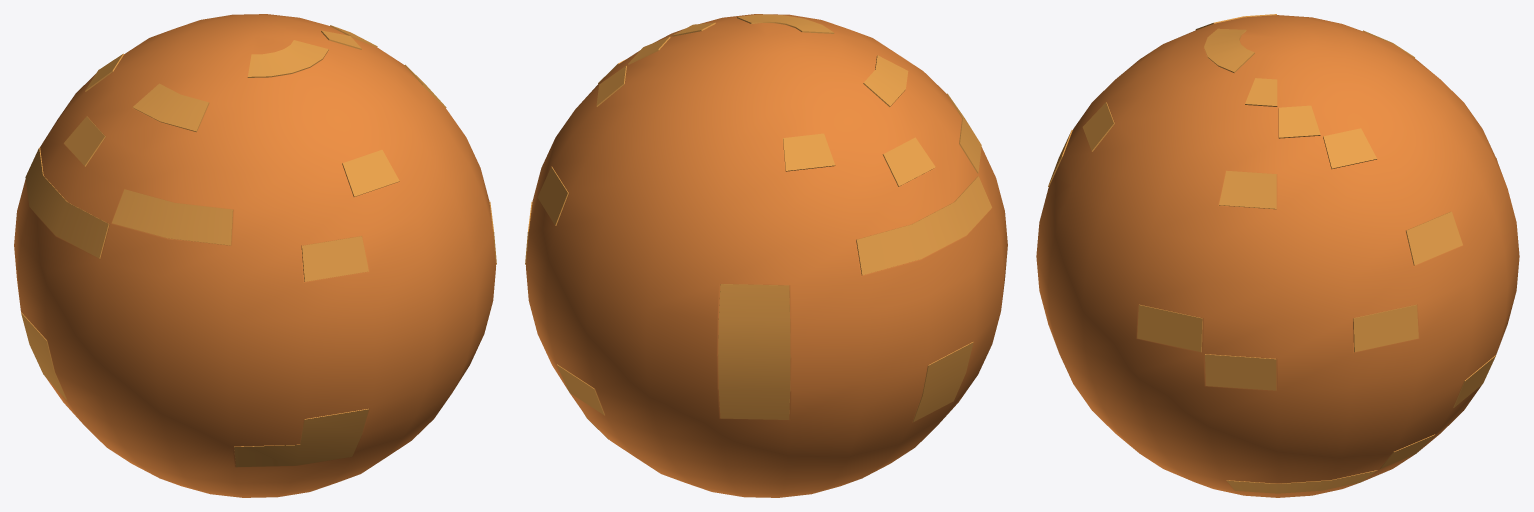
The model's file is Outer_Core_Icon_v01.fbx.
3 renders of one model, left to right at view 1: azimuth 30°, elevation 25°; view 2: azimuth 150°, elevation 25°; view 3: azimuth 270°, elevation 25°, orthographic.
Parts seen in each view (by area): view 1: Outer_Core_1; view 2: Outer_Core_1; view 3: Outer_Core_1.
Boxes of the visible parts, x1,y1,x2,y2 form: Outer_Core_1: (14, 14, 496, 497); Outer_Core_1: (525, 14, 1007, 497); Outer_Core_1: (1036, 14, 1519, 497).
Bounding box in the file's own units: 2 × 2 × 2.
